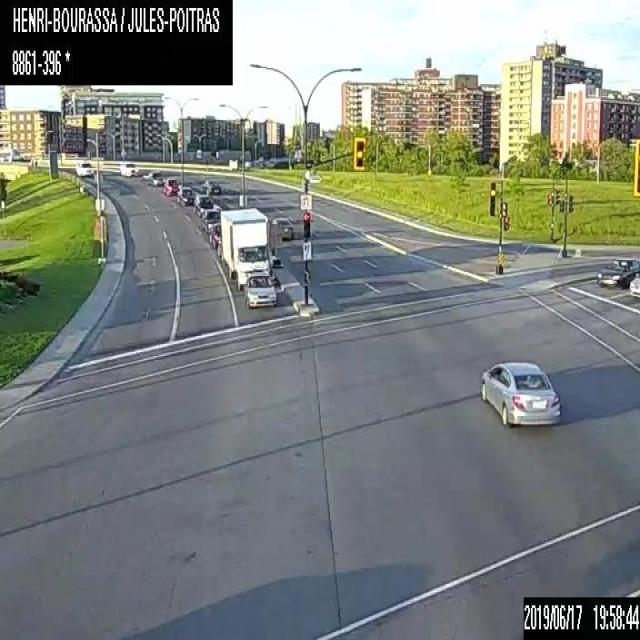vehicle: (479, 358, 559, 426), (208, 207, 268, 288), (596, 253, 639, 286), (244, 270, 276, 306), (271, 213, 292, 239), (192, 194, 213, 216), (202, 208, 220, 232), (176, 185, 193, 205), (202, 178, 220, 194), (162, 177, 178, 195), (146, 170, 164, 186), (119, 161, 137, 176), (74, 160, 92, 174), (629, 272, 639, 297)
